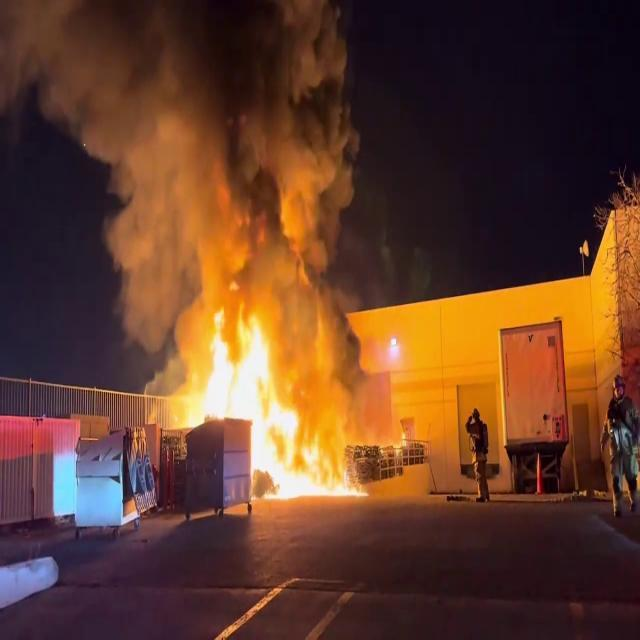Fire: (162, 277, 352, 500)
Smoke: (2, 0, 368, 316)
